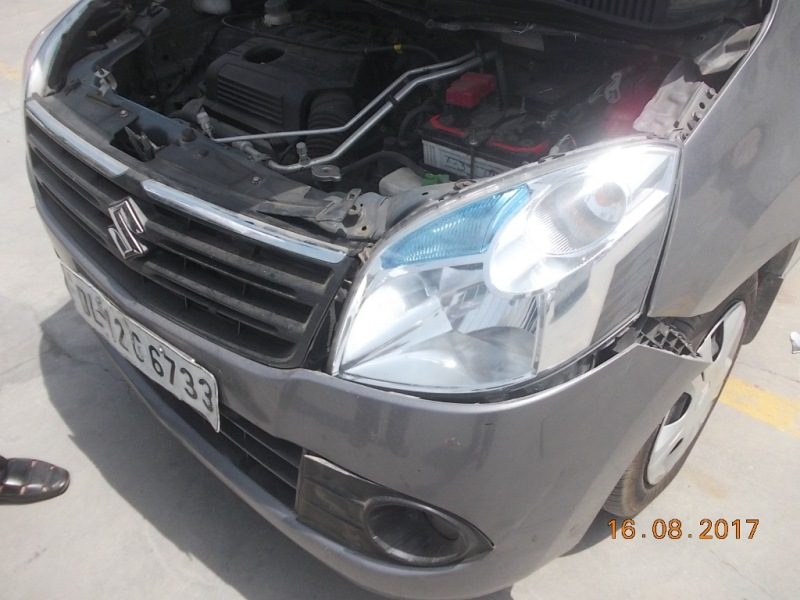Dislocation: (645, 297, 717, 378)
